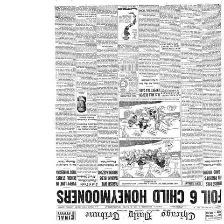news_paper: (51, 0, 224, 224)
